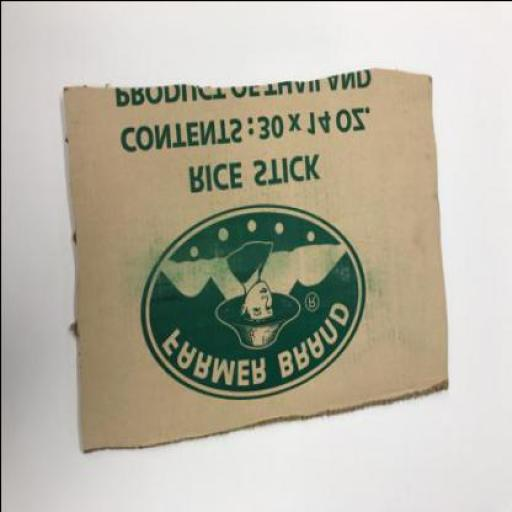cardboard: (62, 66, 448, 448)
